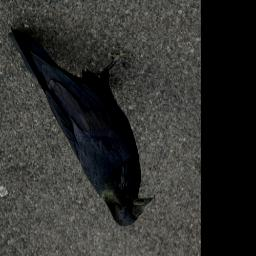Crow: (8, 25, 156, 227)
